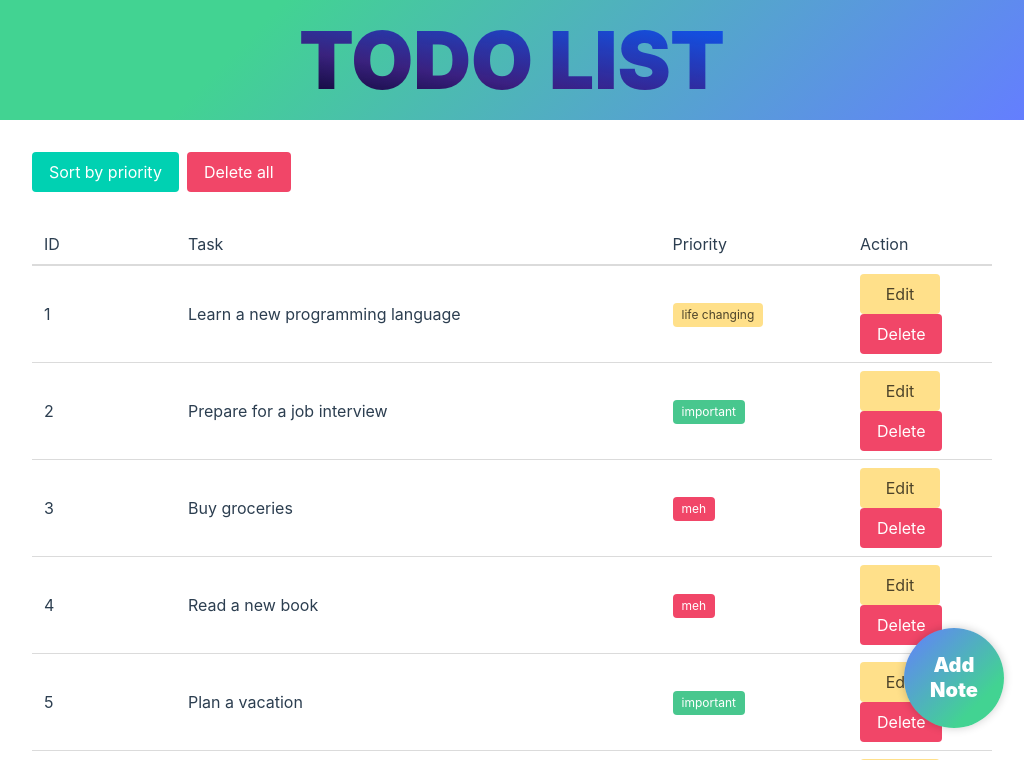
Scenario: Pruebas E2E para el componente TableData › debería eliminar una nota
Click the button with test id "delete-note-button" in the row of "Learn a new programming language". click: click(902, 334)
box: [860,314,943,354]
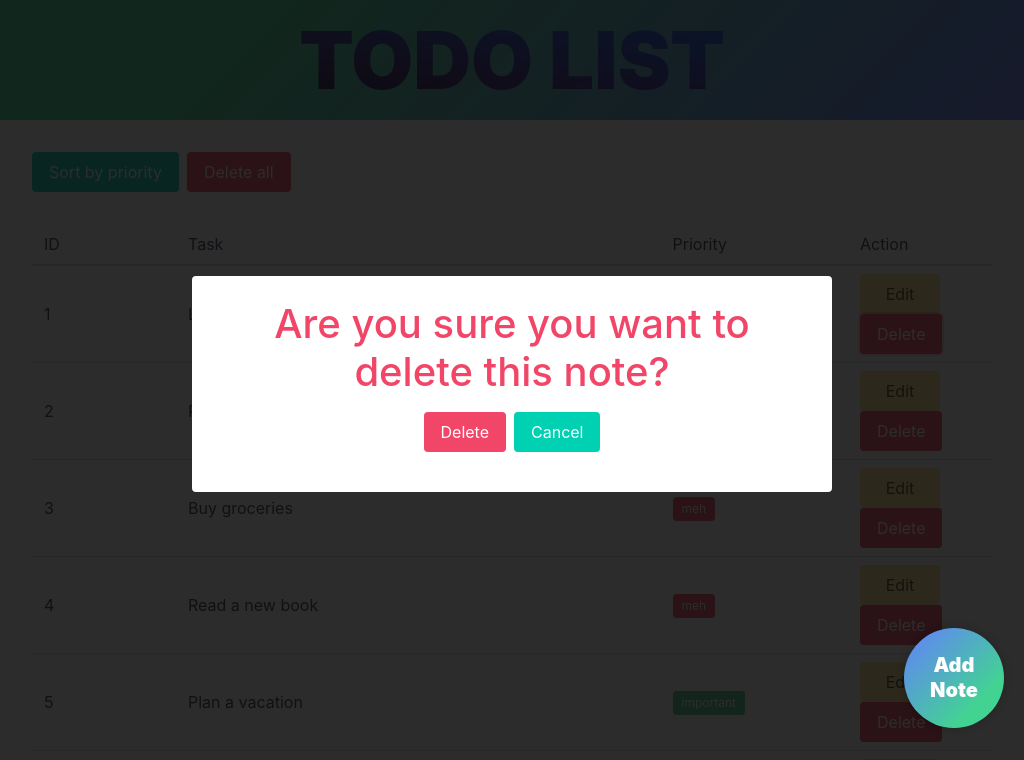
Expected: the heading "Are you sure you want to delete this note?" is shown, [274,299,750,396]
Click the button with class "delete-note-button" showing "Delete". click: click(466, 432)
box: [424,412,507,452]
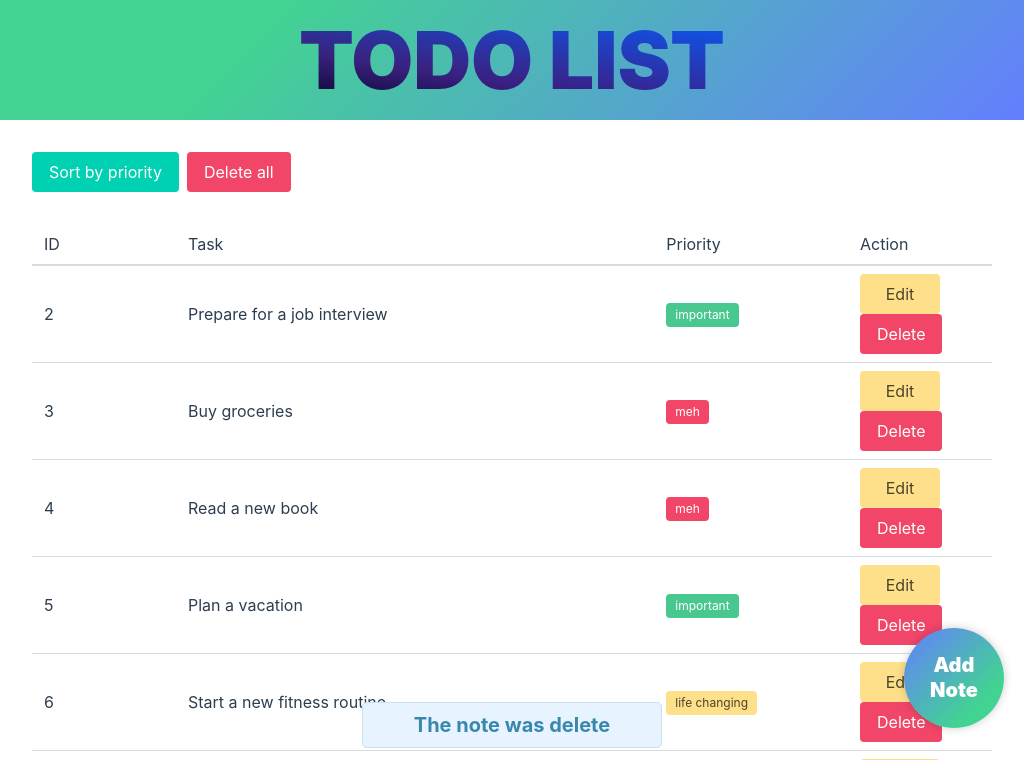
Expected: the element with class "alert-info" is shown, [362,702,662,748]
Expected: the heading "The note was delete" is shown, [414,713,610,737]
